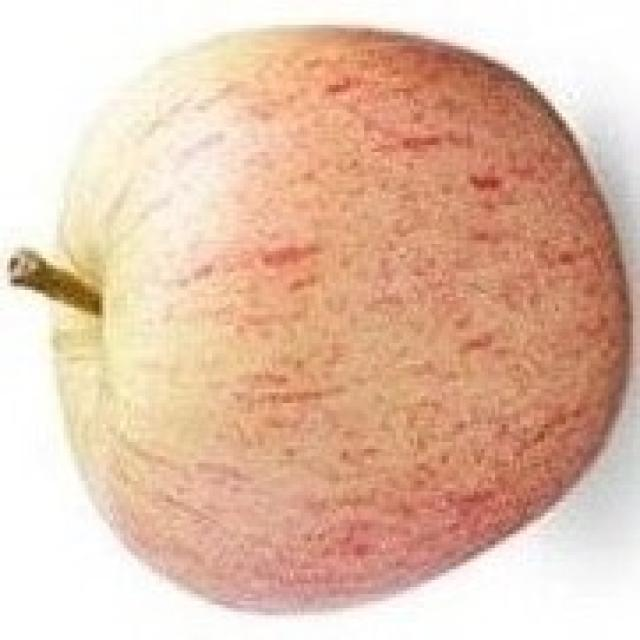75-_ripeness: (53, 24, 627, 610)
